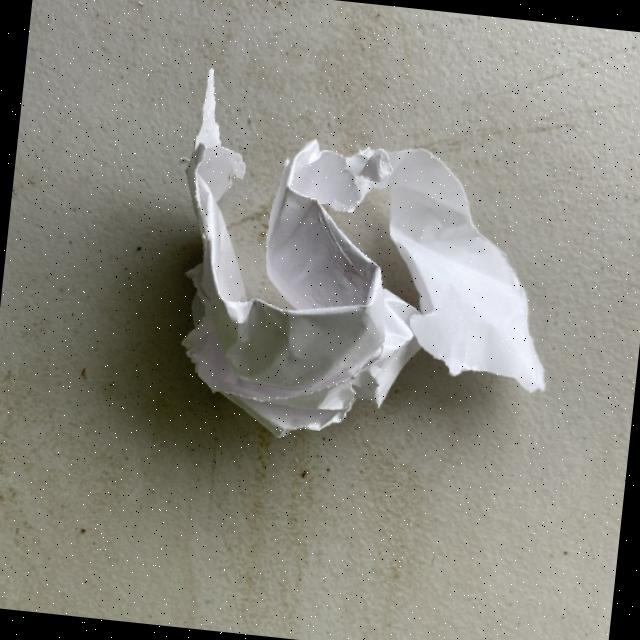paper: (154, 65, 574, 466)
